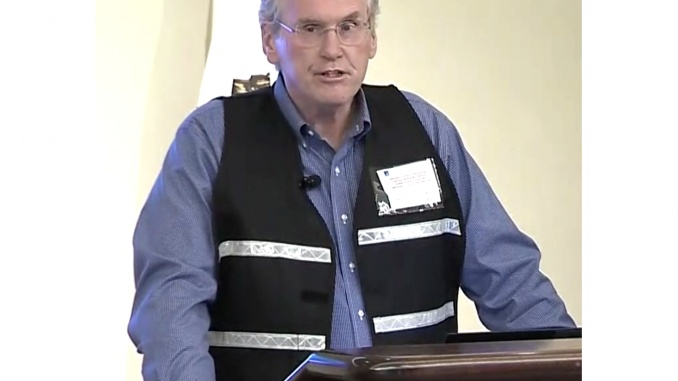person with partial safety: (163, 1, 493, 379)
safety vest: (209, 91, 463, 379)
